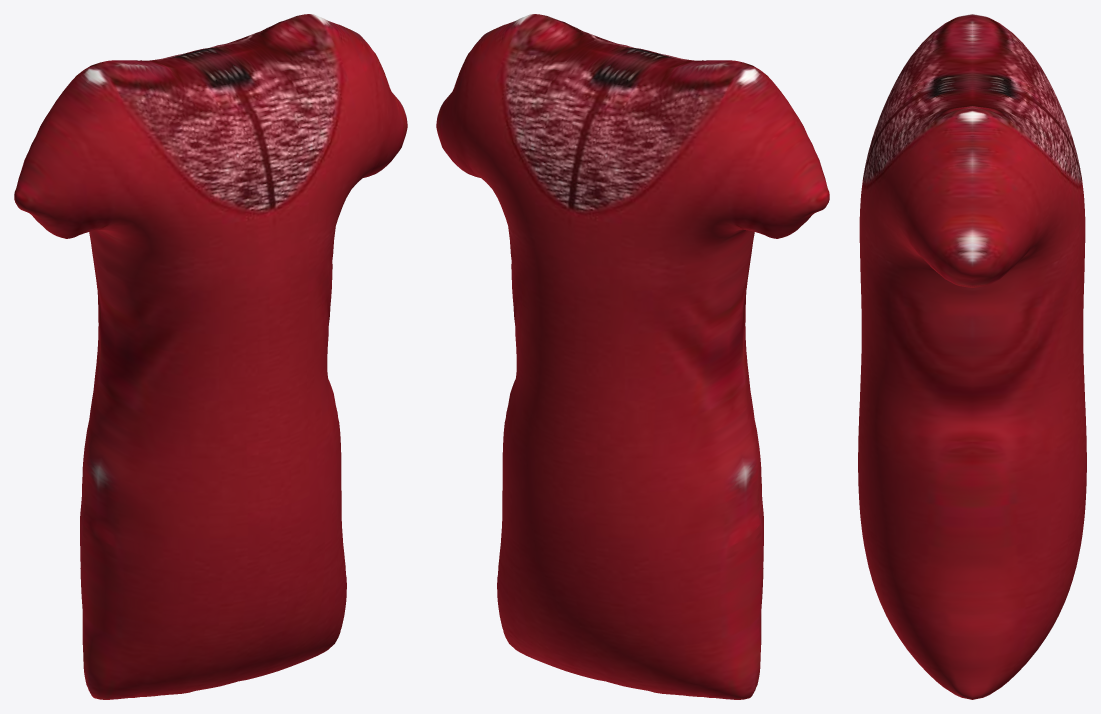
Rendered from 7SI21D04N-G11@10=cloth_front.glb.
3 views of the same model, side by side, from view 1: azimuth 30°, elevation 25°; view 2: azimuth 150°, elevation 25°; view 3: azimuth 270°, elevation 25° (orthographic). The views are drawn at different scales.
Size of the model in its own units: 4.51 by 7.08 by 2.49.
1 material, 1 textured.
